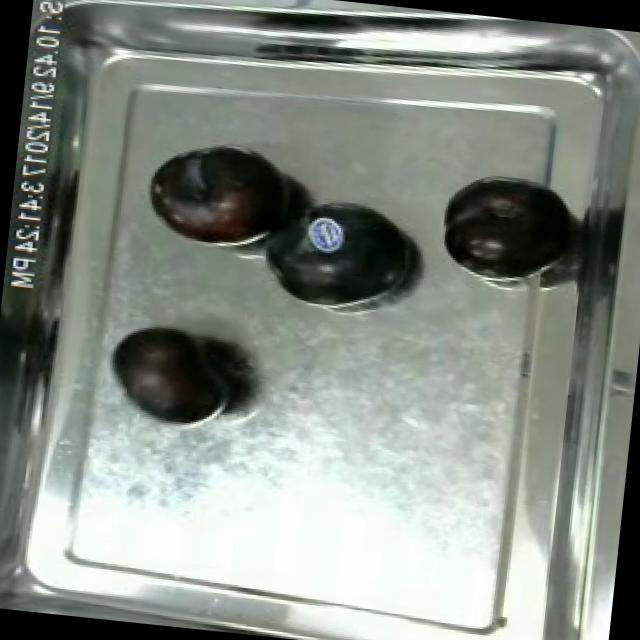Fruit: (247, 191, 424, 320), (139, 133, 298, 256), (100, 316, 247, 434), (432, 168, 576, 285)
